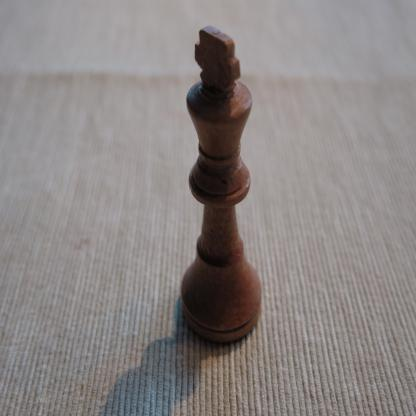white-king: (180, 24, 263, 346)
